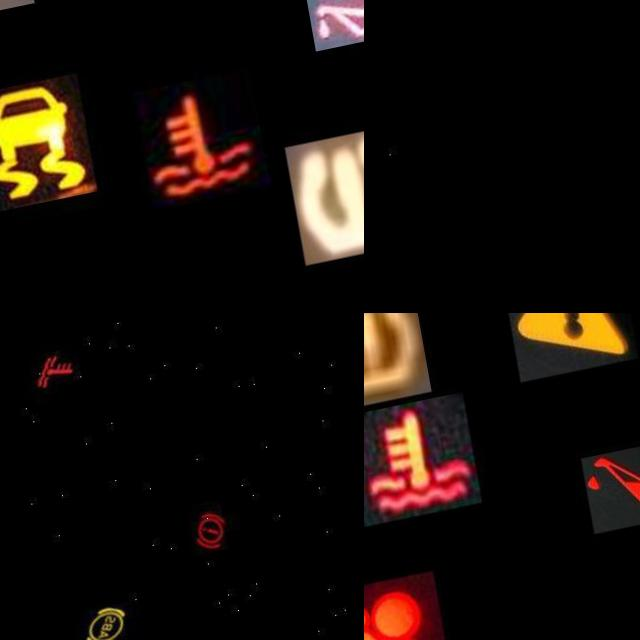Central Warning lamp: (497, 313, 632, 399)
Engine cooling system: (116, 86, 250, 224), (364, 406, 471, 536)
